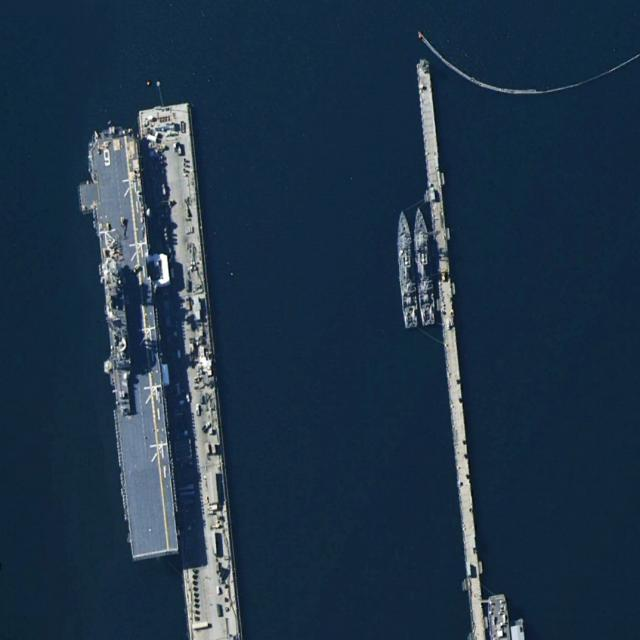Landing: (73, 122, 182, 565)
Other Warship: (410, 207, 437, 326), (393, 208, 418, 326)
